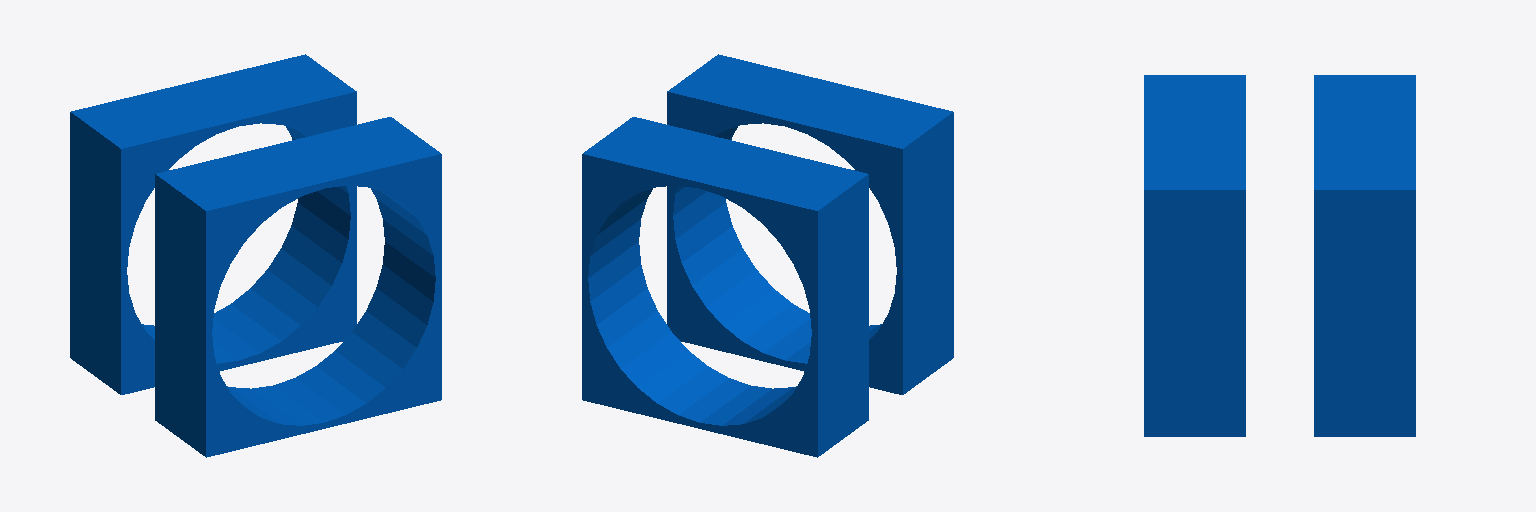
Rendered from ConnectFour Case.obj.
3 views of the same model, side by side, from view 1: azimuth 30°, elevation 25°; view 2: azimuth 150°, elevation 25°; view 3: azimuth 270°, elevation 25° (orthographic).
Visible parts, largest first — view 1: ConnectFour Case; view 2: ConnectFour Case; view 3: ConnectFour Case.
Part boxes in pixels (bbox=[...]): ConnectFour Case: bbox=[70, 54, 441, 457]; ConnectFour Case: bbox=[582, 54, 953, 457]; ConnectFour Case: bbox=[1144, 75, 1415, 436].
Size of the model in its own units: 4 by 4 by 4.